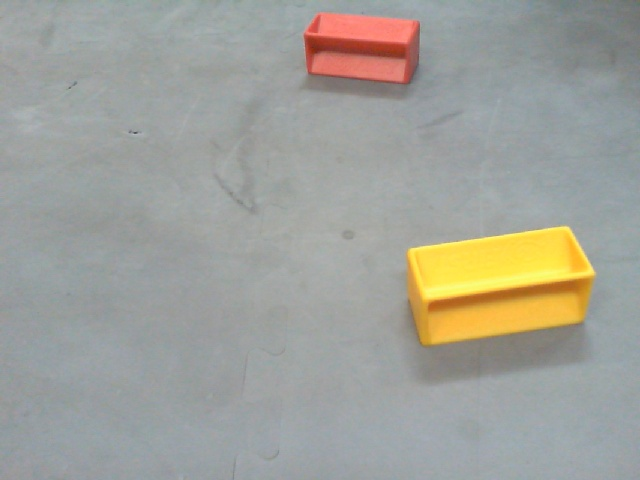RedSample: (304, 12, 419, 86)
YellowSample: (405, 221, 595, 348)
